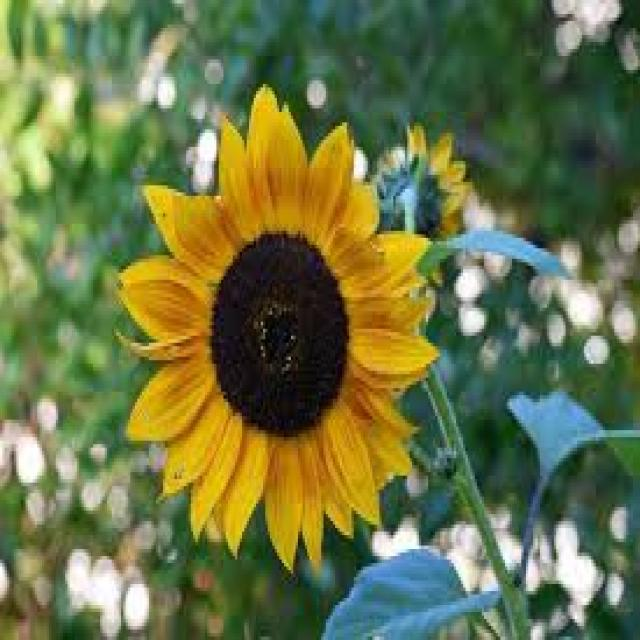sunflower: (112, 75, 440, 579)
